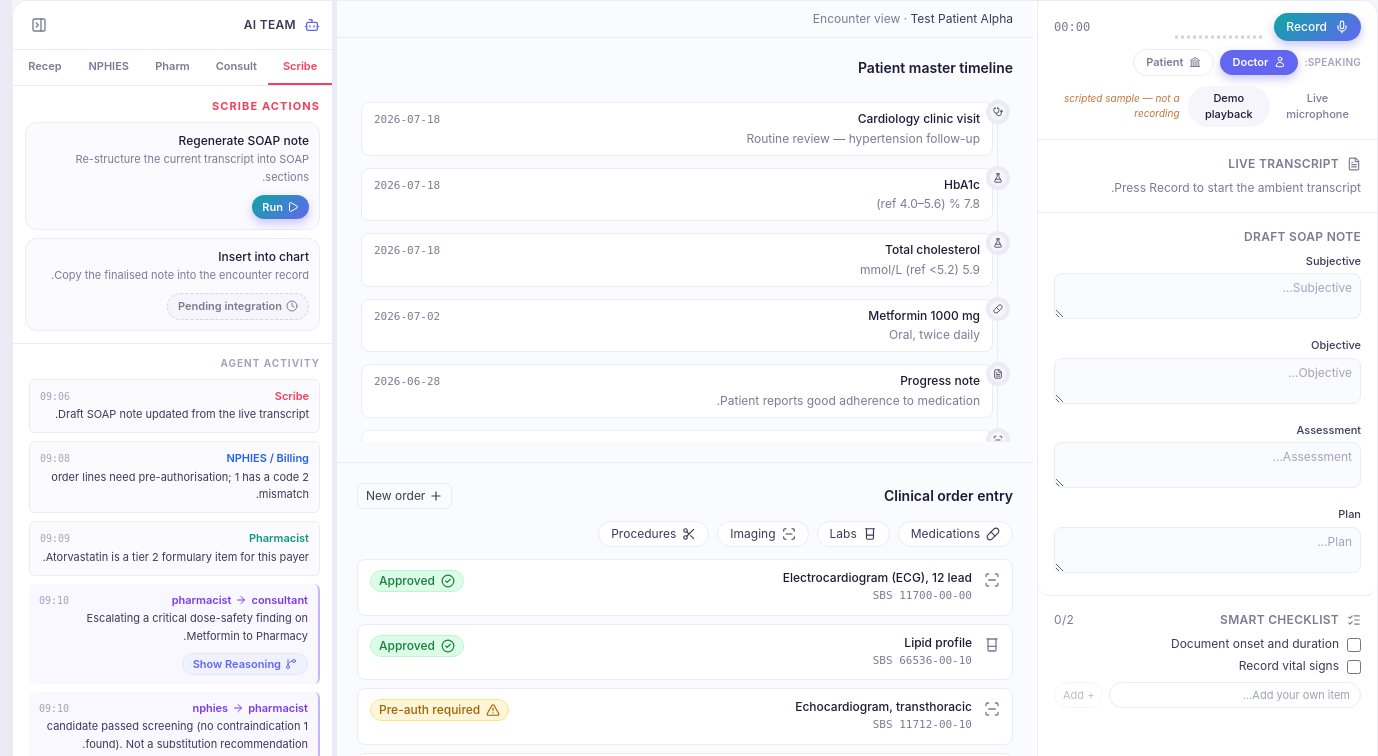
it: AI Team drawer › switches the action cards when another agent tab is selected
Expected: the text "Regenerate SOAP note" is shown, x1=179 y1=133 x2=309 y2=148
Click the tab with aria-label "Pharmacist".
click(172, 67)  # box x1=141 y1=50 x2=204 y2=84
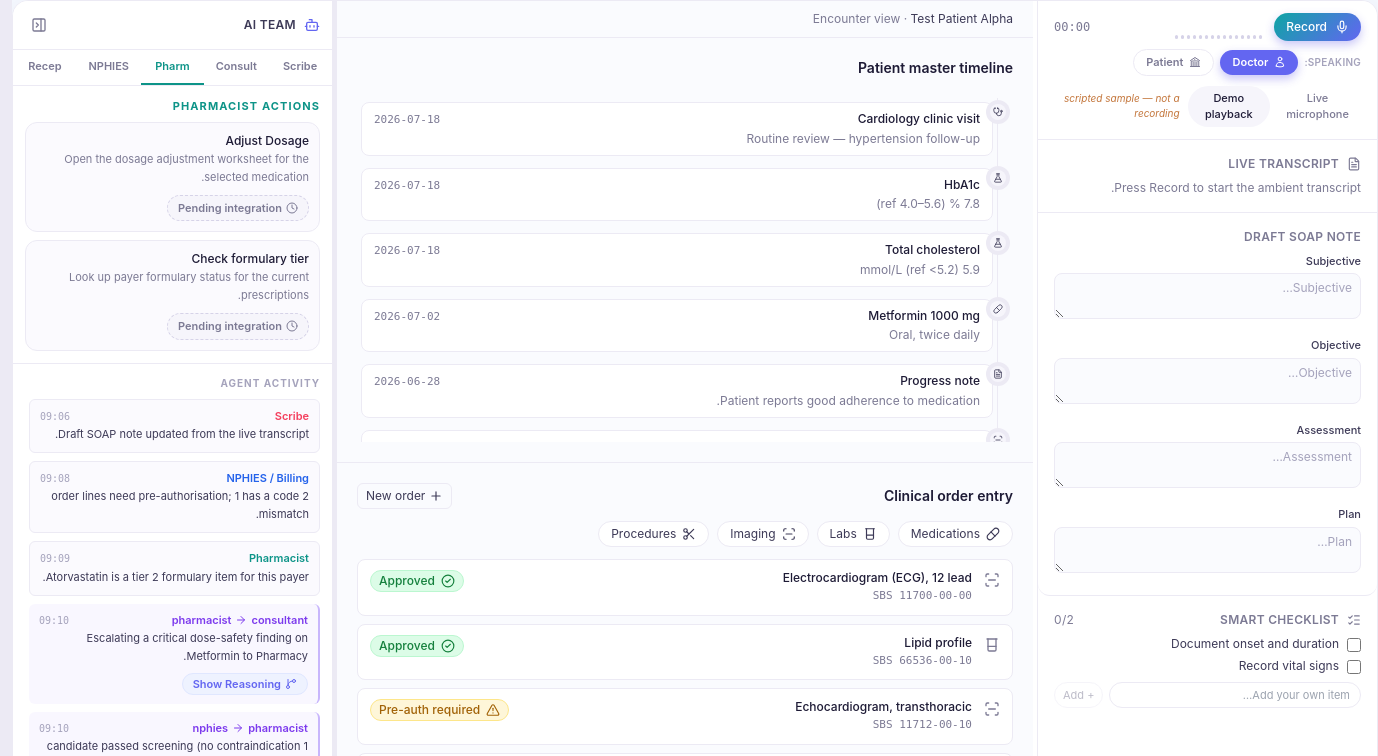
Now the text "Adjust Dosage" is shown, box x1=226 y1=133 x2=309 y2=148
Now the text "Regenerate SOAP note" is gone
Click the tab with aria-label "NPHIES / Billing".
click(109, 67)  # box x1=77 y1=50 x2=141 y2=84
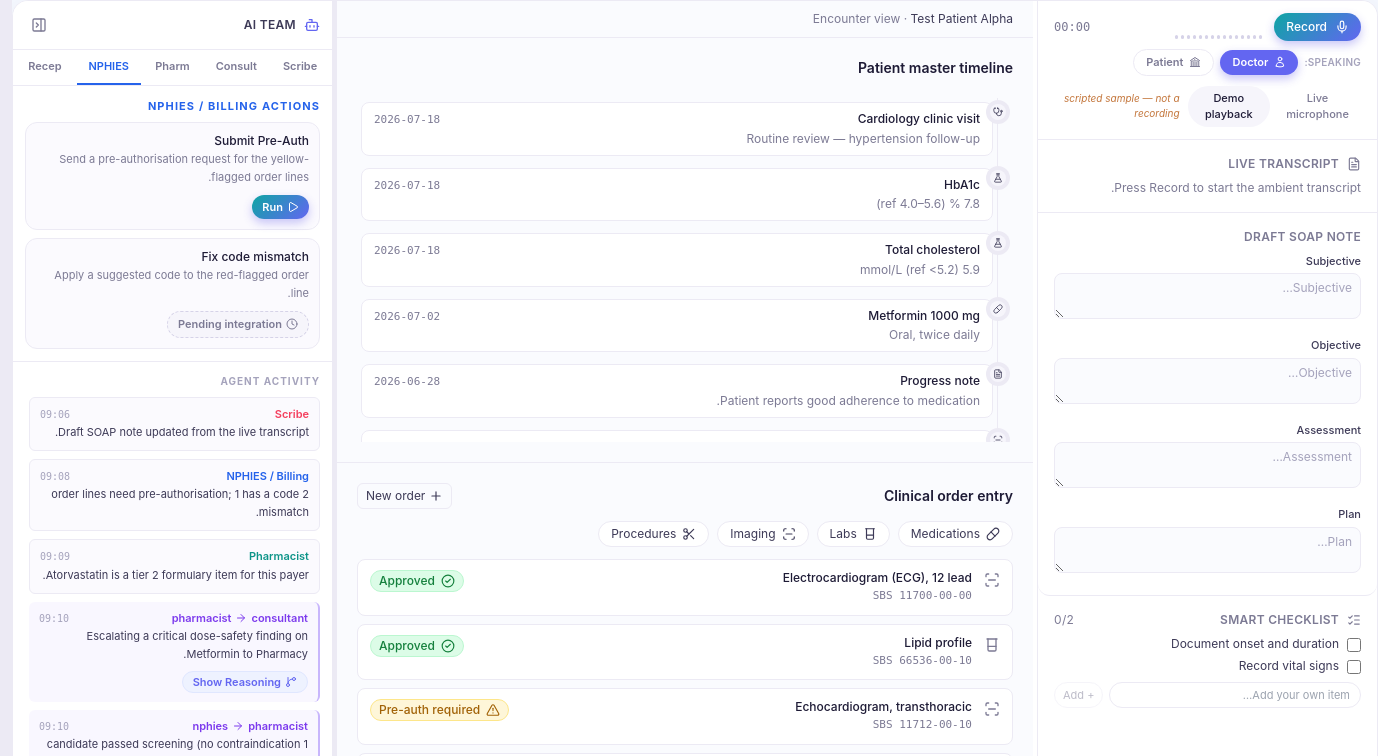
Now the text "Submit Pre-Auth" is shown, box x1=214 y1=133 x2=309 y2=148
